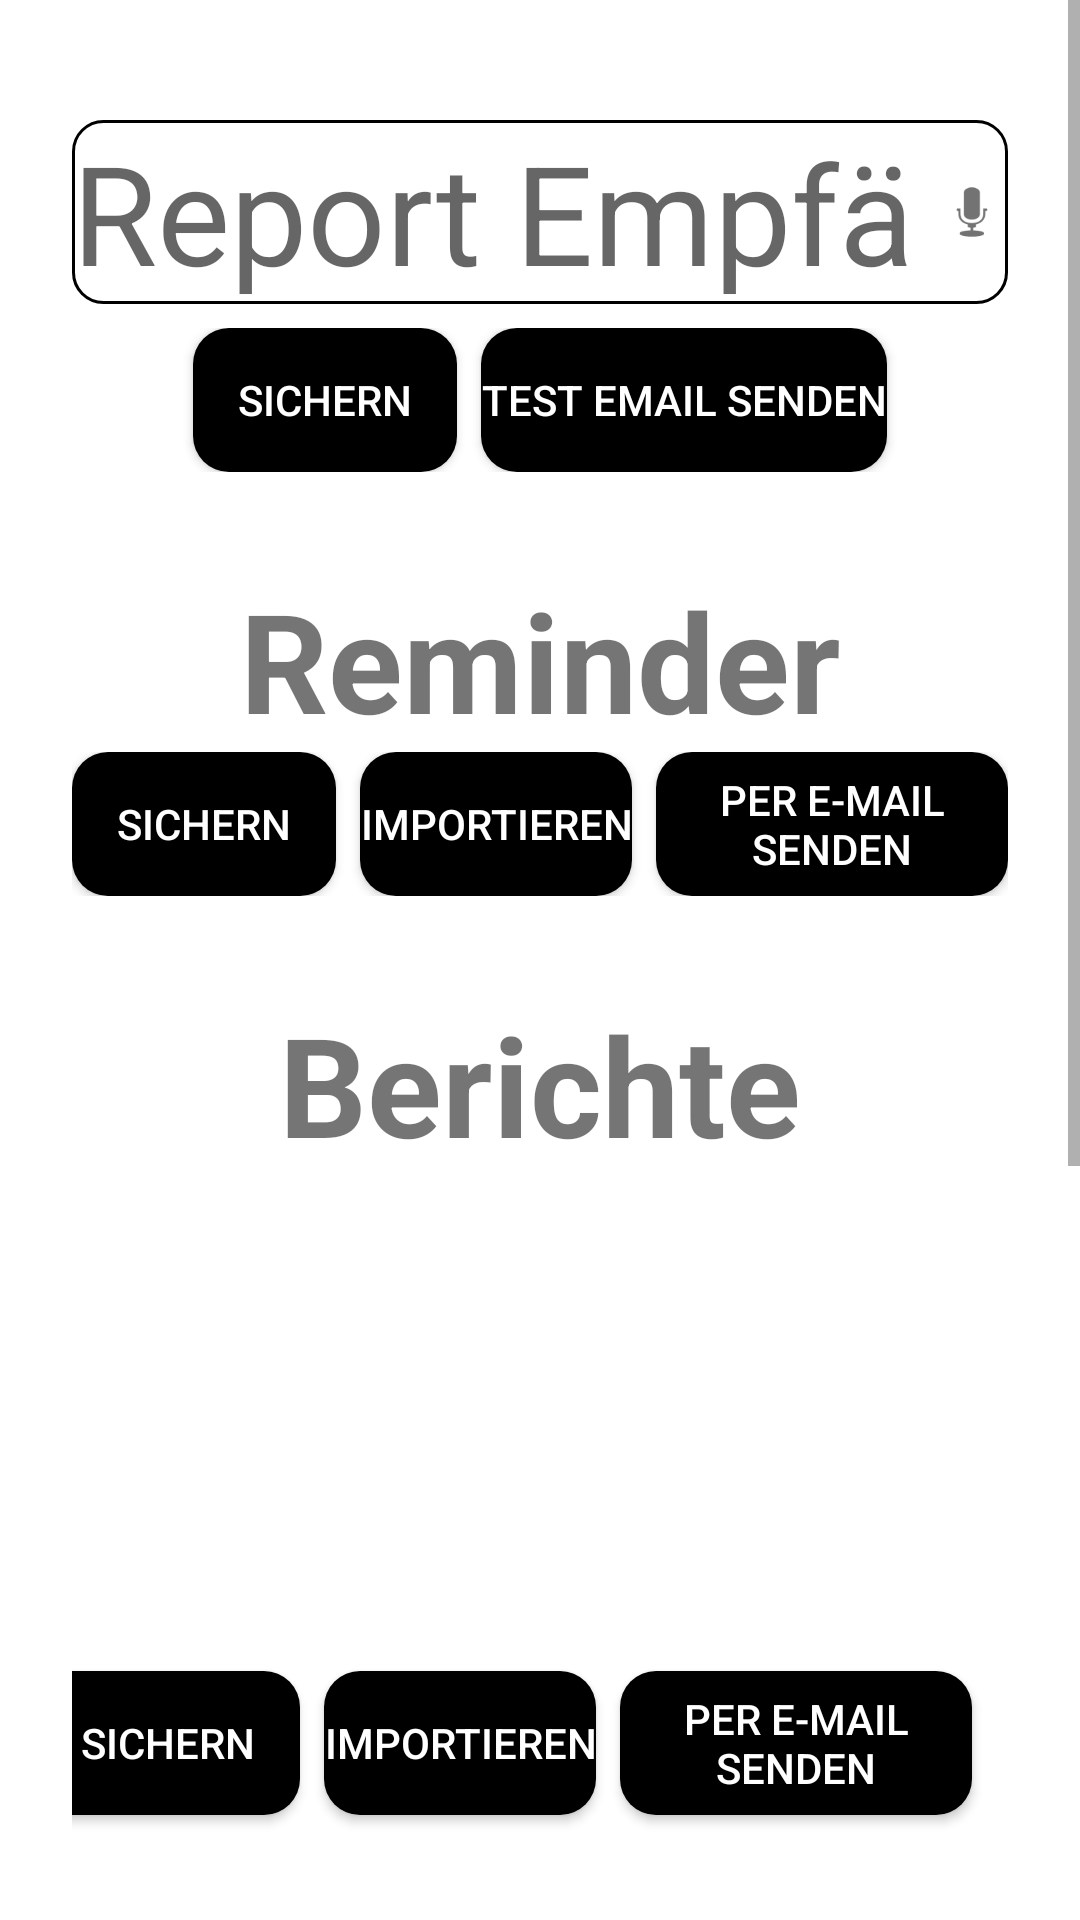

Icons on this 1080*1920 Android screen, each with the point to tap as point (x, y):
E-Mail sprechen: point (972, 212)
